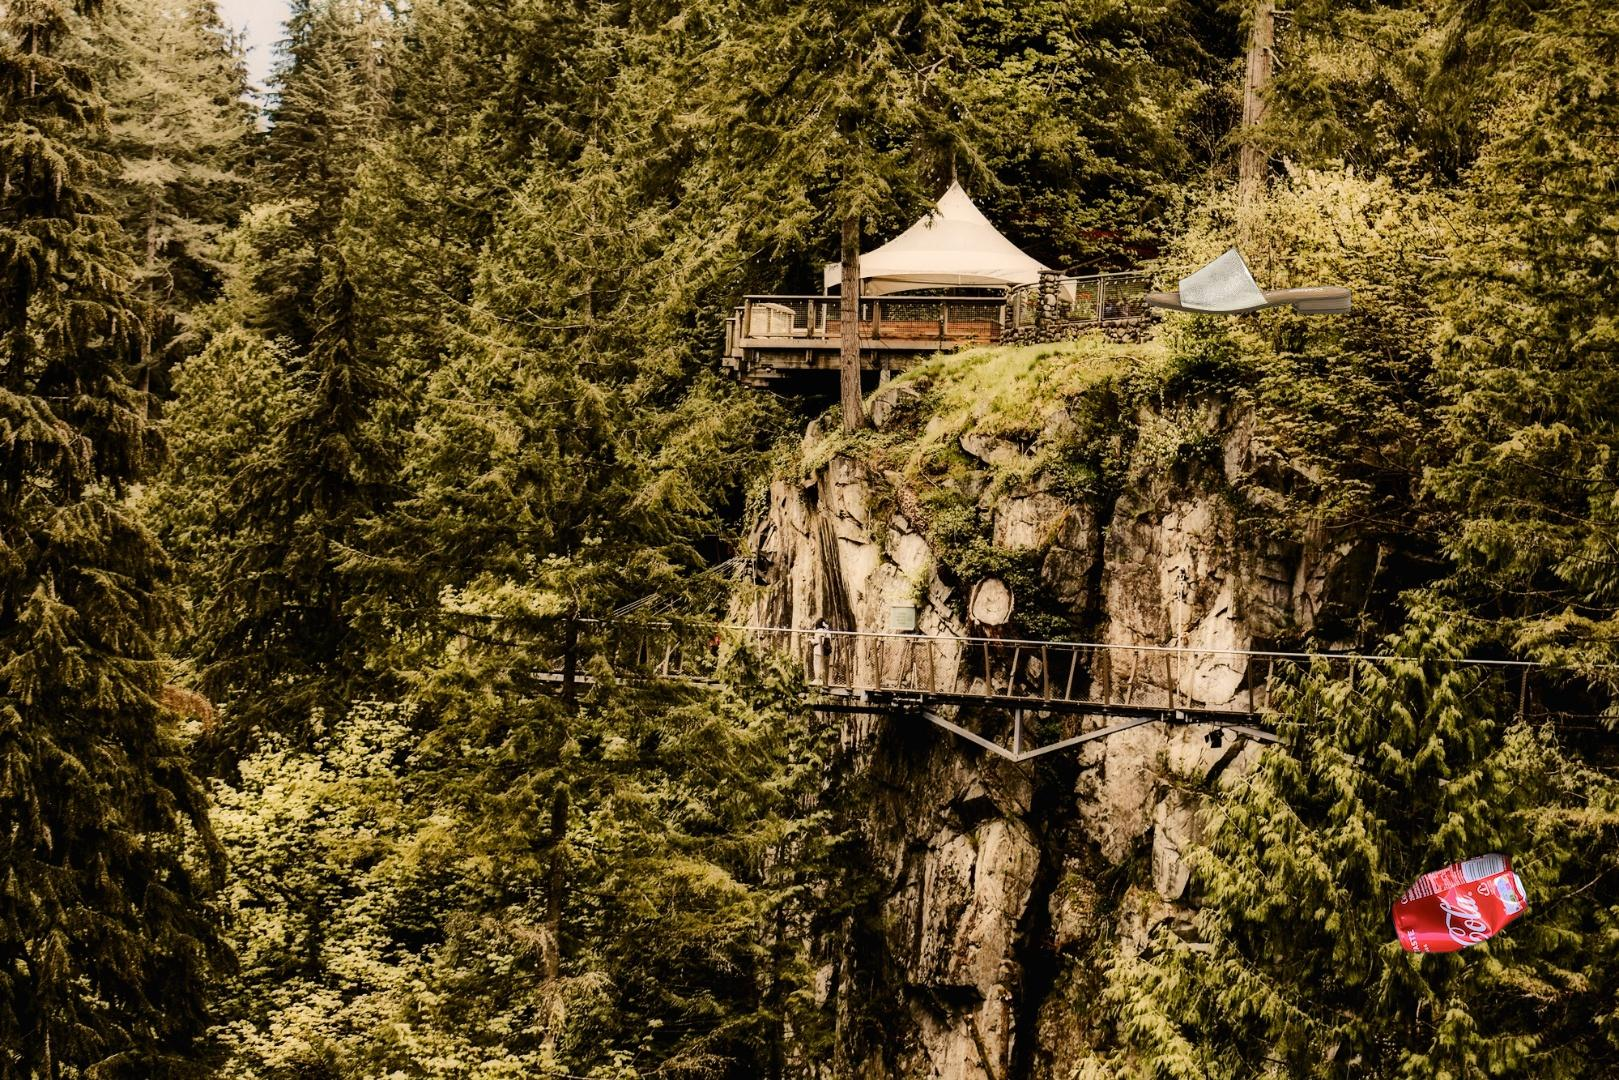metal-cans: (1386, 847, 1532, 959)
shoes: (1142, 245, 1354, 317)
